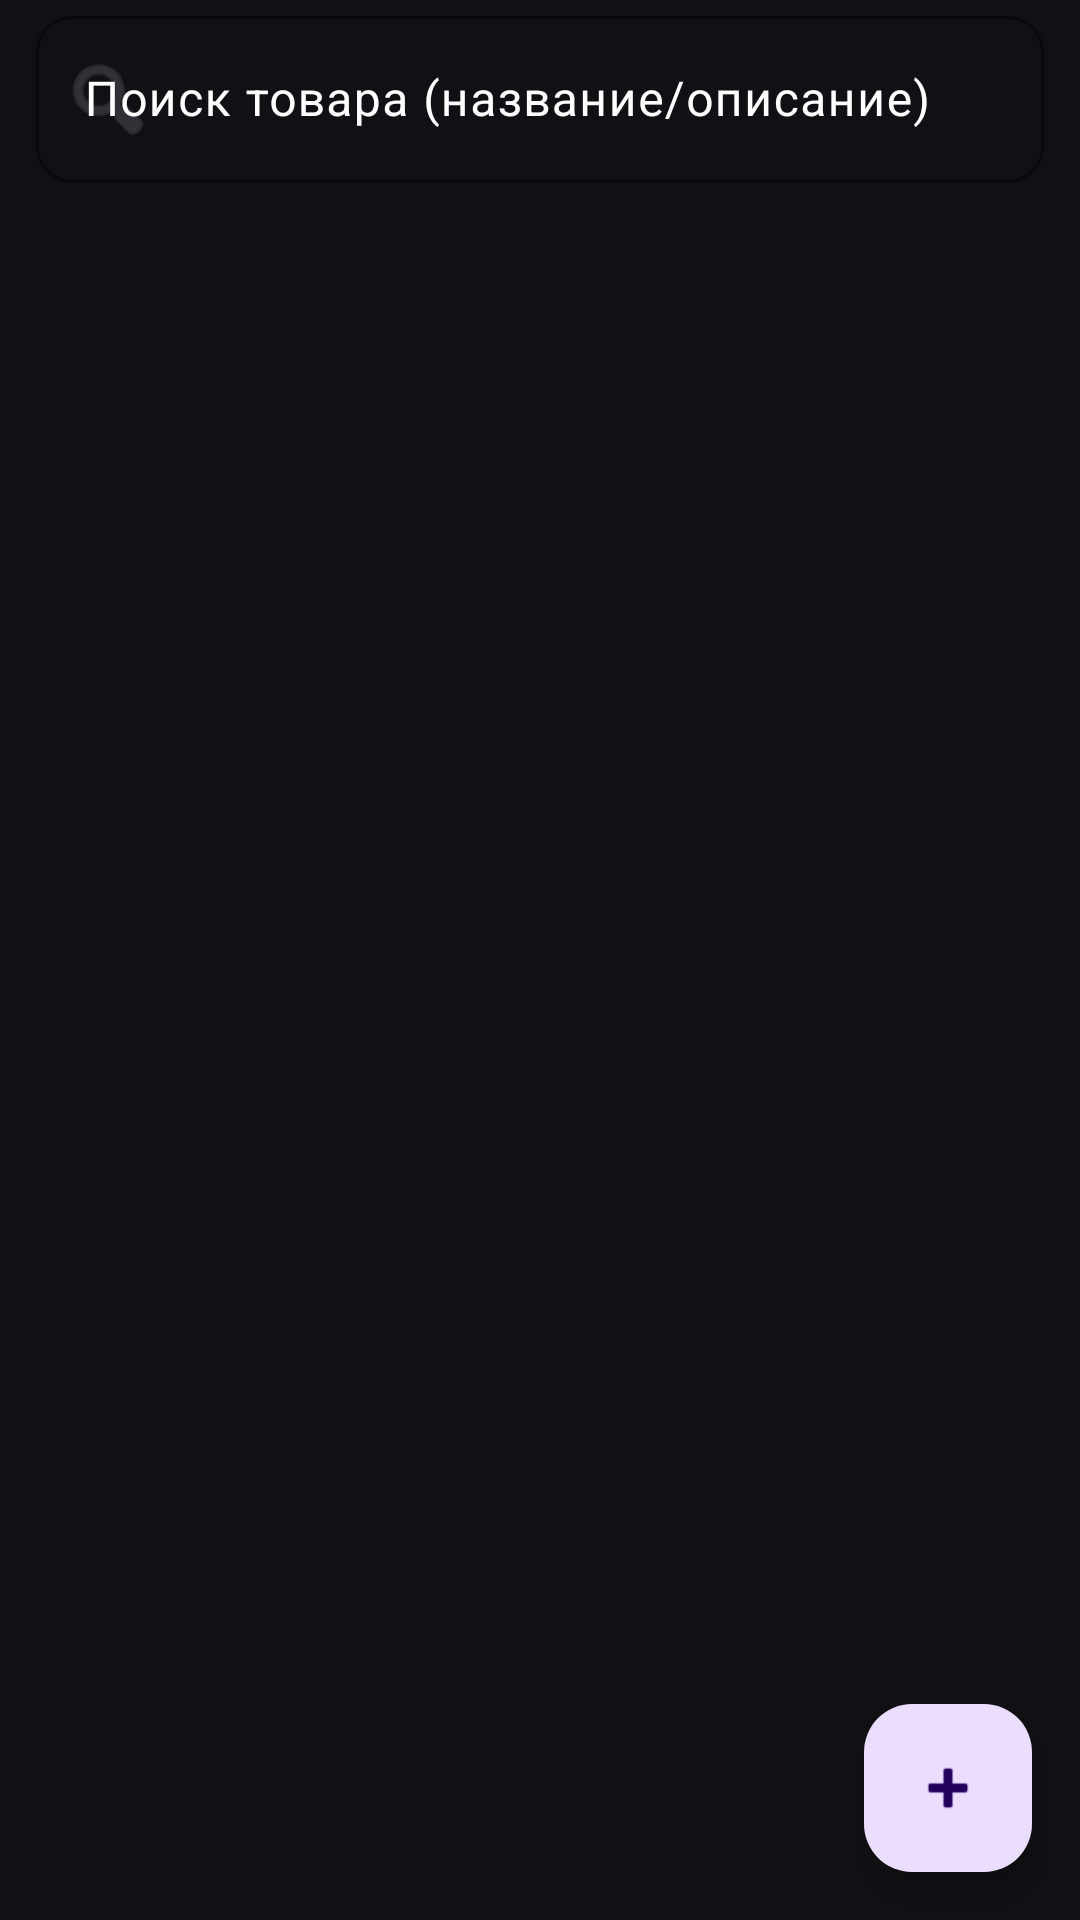

Icon bounding boxes for this 1080w x 1920h phone screenshot, format (x1, y1, x2, y2):
Добавить: (864, 1704, 1032, 1872)
